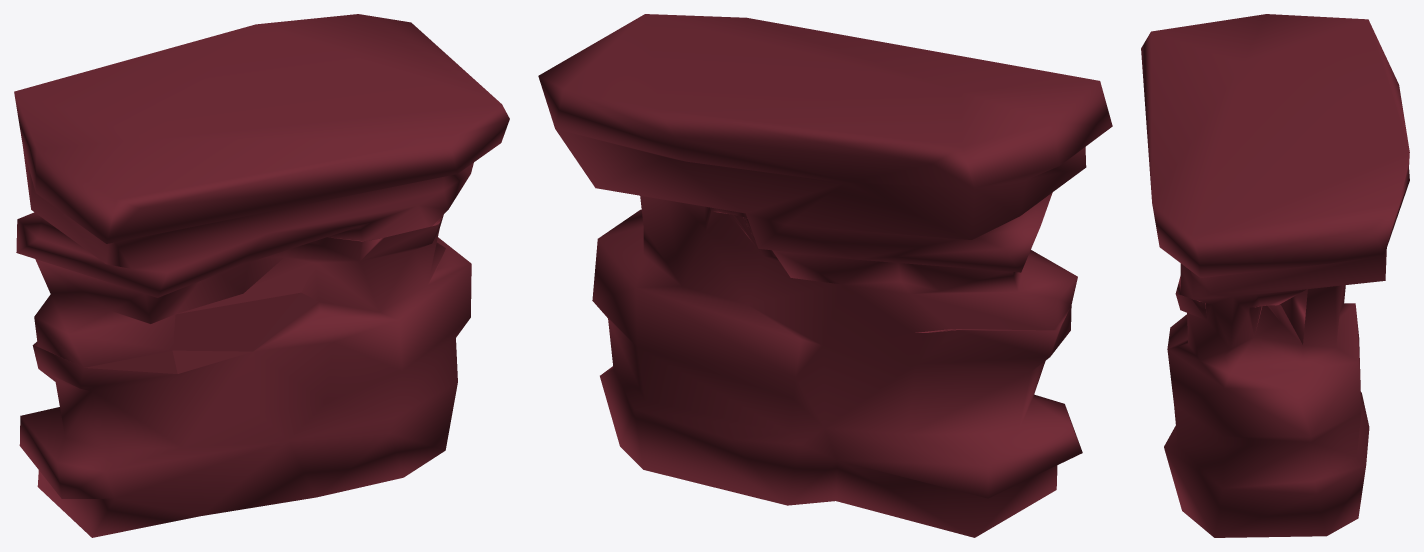
The model's file is Mesh_Wall_d.fbx.
3 views of the same model, side by side, from view 1: azimuth 30°, elevation 25°; view 2: azimuth 150°, elevation 25°; view 3: azimuth 270°, elevation 25° (orthographic). The views are drawn at different scales.
Parts seen in each view (by area): view 1: wall_d; view 2: wall_d; view 3: wall_d.
Part boxes in pixels (left/top/right/bottom): wall_d: left=14, top=14, right=509, bottom=537; wall_d: left=538, top=14, right=1112, bottom=537; wall_d: left=1141, top=14, right=1409, bottom=537.
Bounding box in the file's own units: 14.14 × 11.75 × 7.97.
